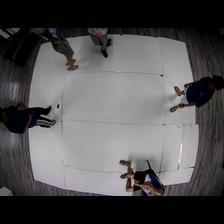normal: (169, 73, 224, 114), (113, 155, 166, 197), (35, 26, 81, 72), (4, 105, 54, 133)
